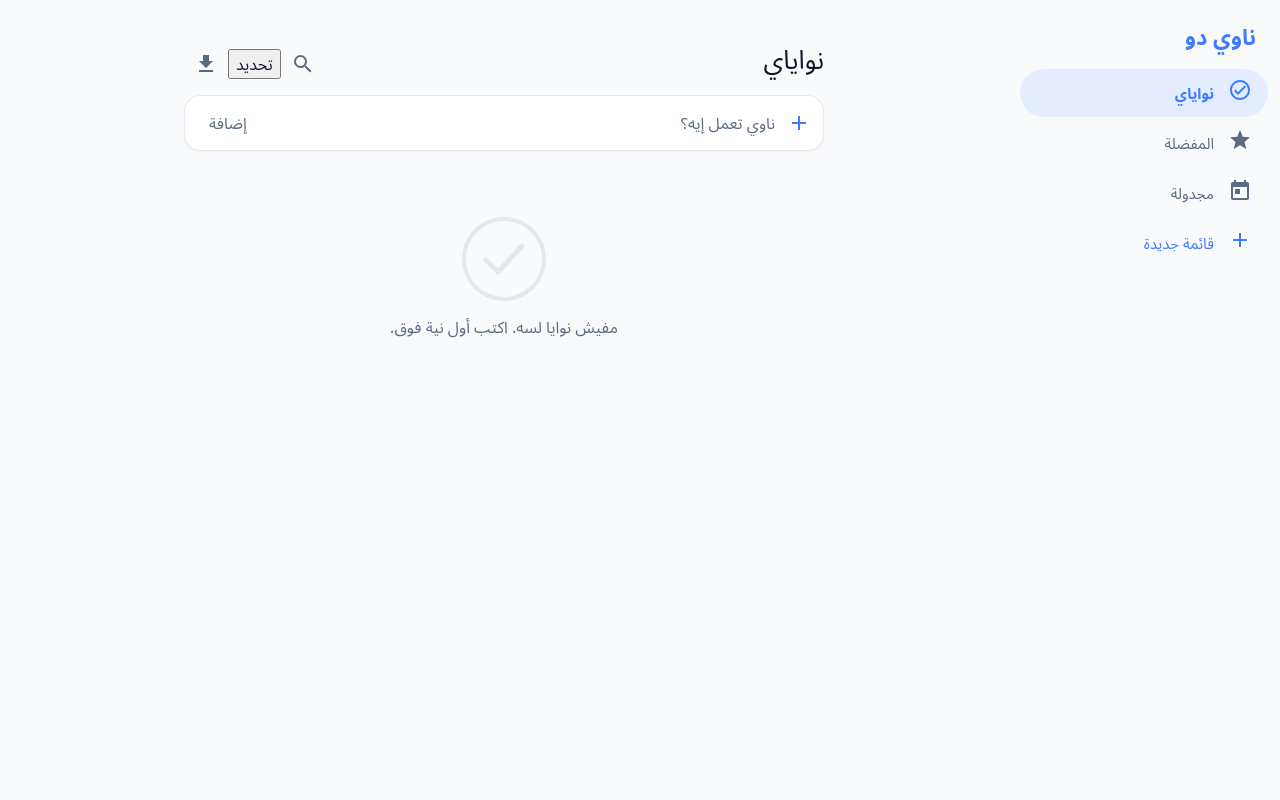
Test: lists › renames a list
The width and height of the screenshot is (1280, 800).
Check: the text "مفيش نوايا لسه. اكتب أول نية فوق." is shown, box [390,315,618,339]
Click the button "قائمة جديدة" at x=1144, y=243, box [1020,219,1268,267]
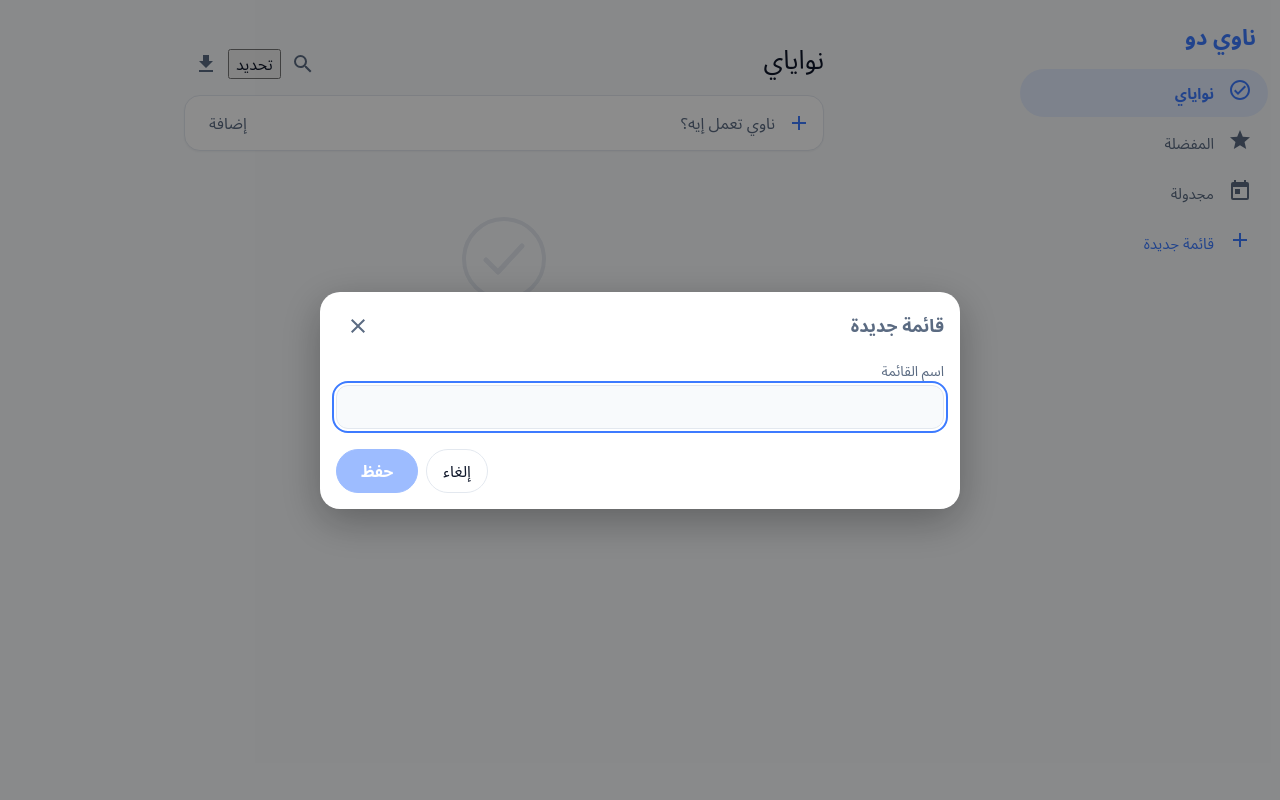
Type "قديم" into the field labelled "اسم القائمة" at x=640, y=406, box [336,384,944,428]
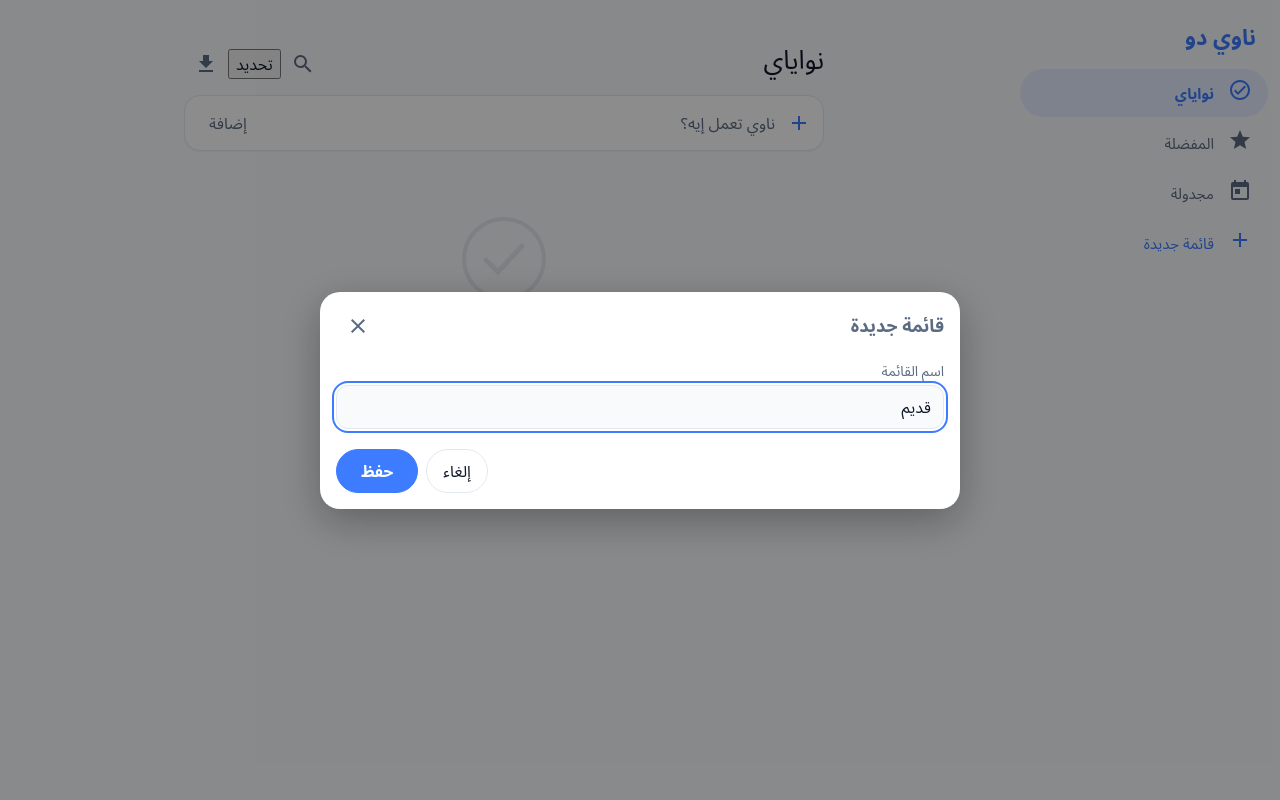
Click the button "حفظ" at x=377, y=470, box [336,448,418,492]
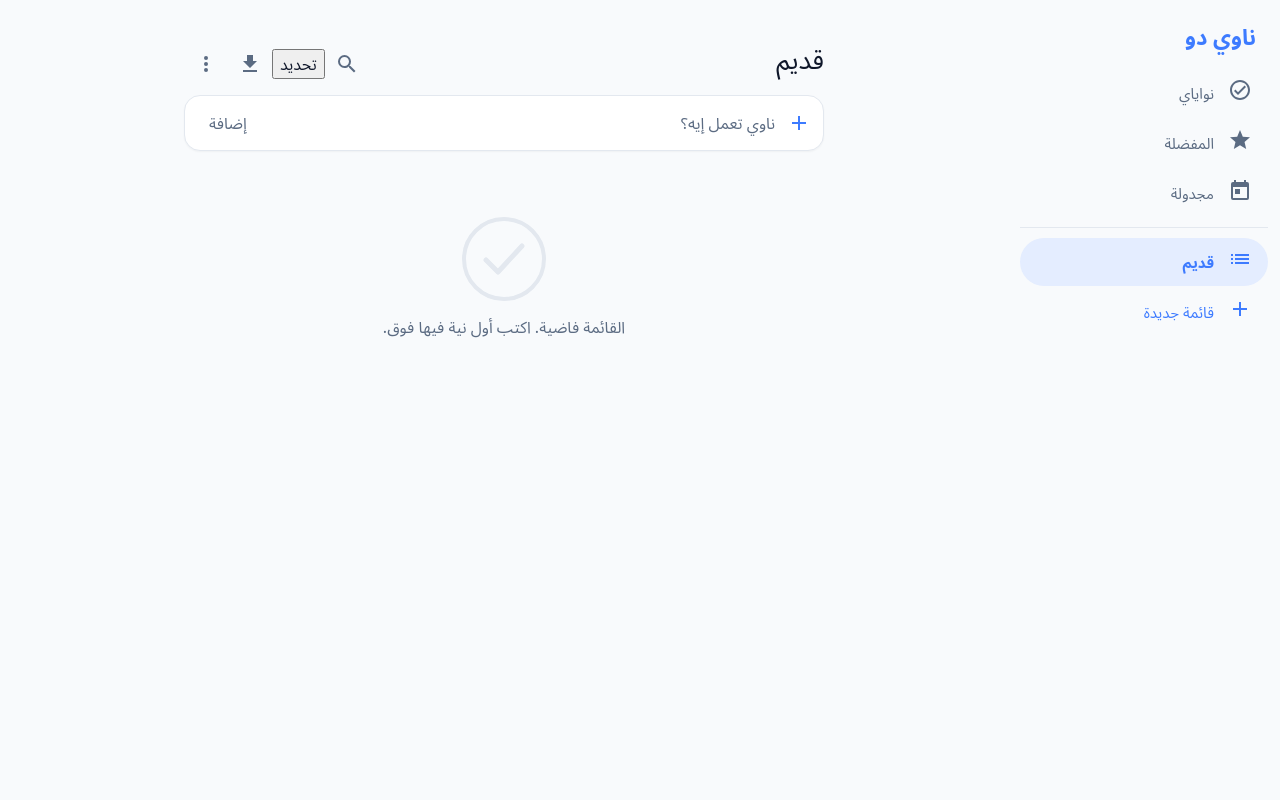
Check: the heading "قديم" is shown, box [776,40,824,79]
Click the button named "خيارات القائمة" at x=206, y=64, box [184,42,228,86]
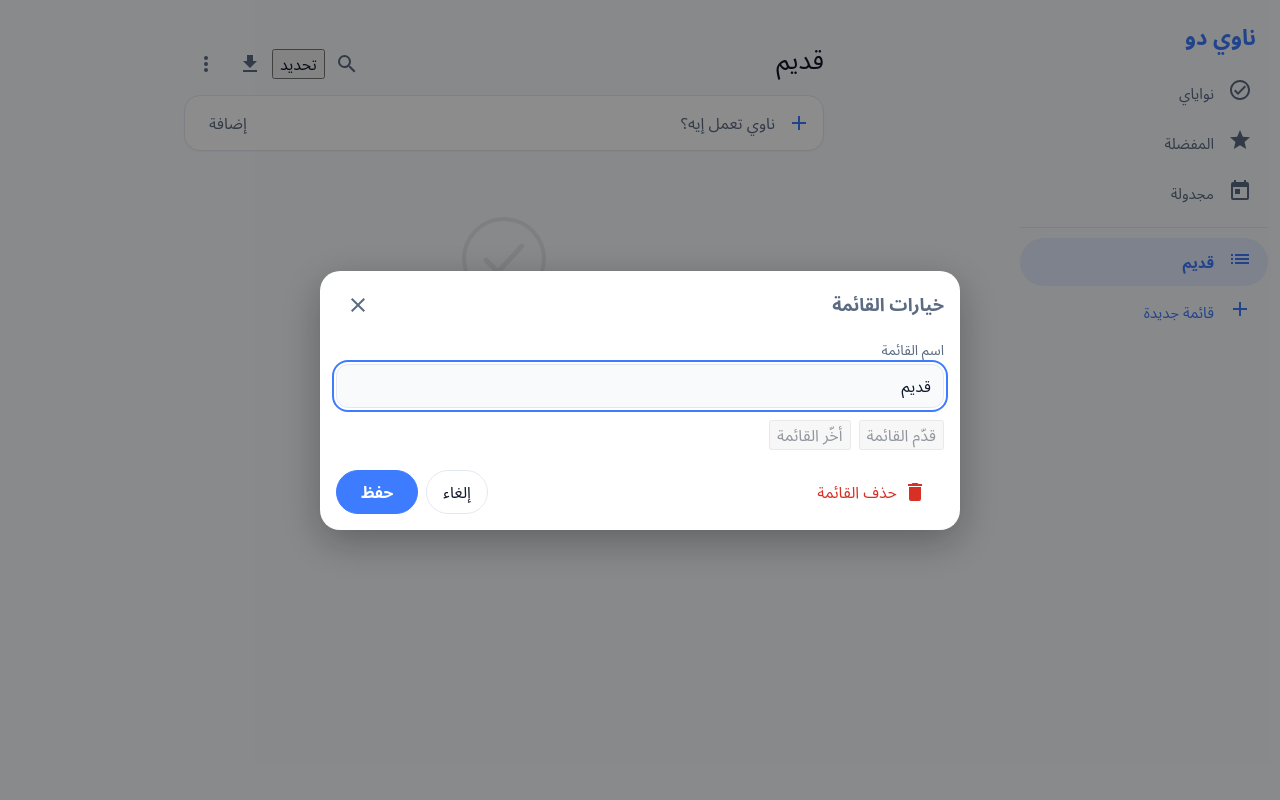
Replace the text in the field labelled "اسم القائمة" with "جديد" at x=640, y=386, box [336,364,944,408]
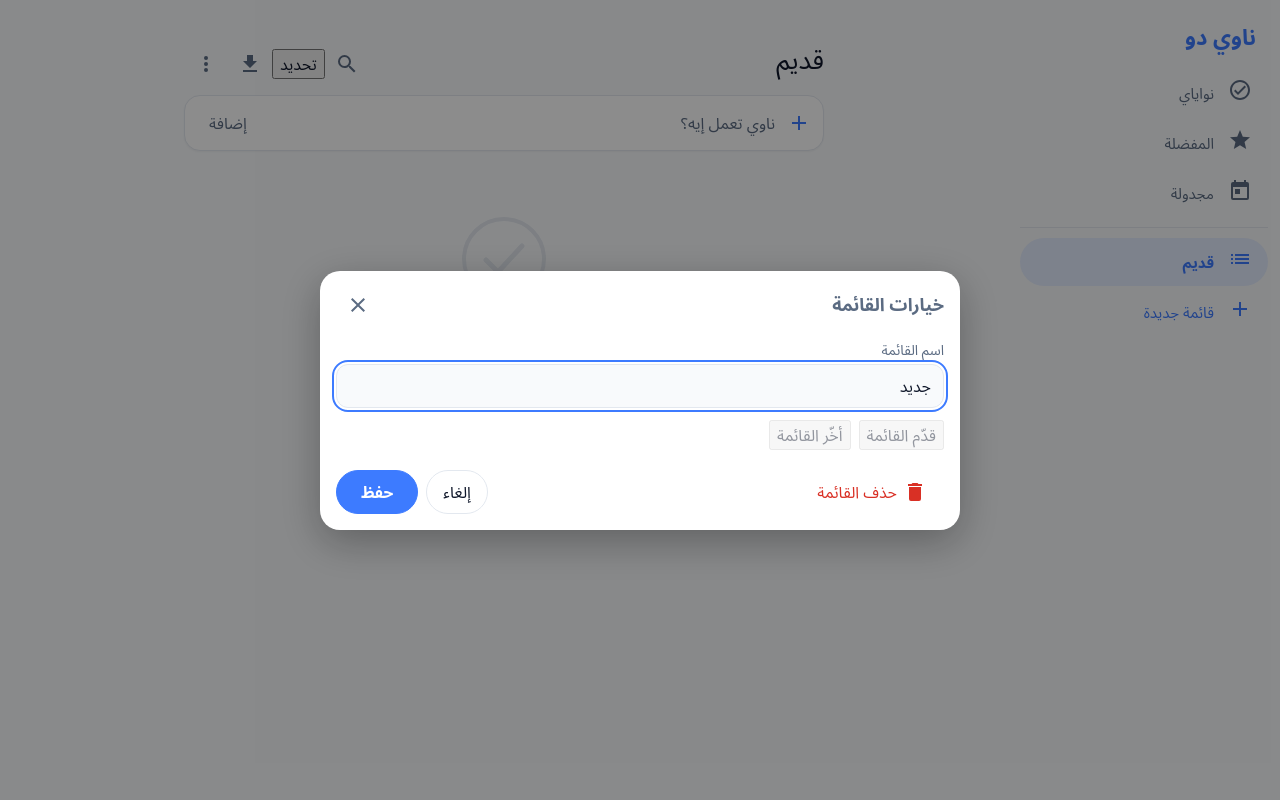
Click the button "حفظ" at x=377, y=492, box [336,470,418,514]
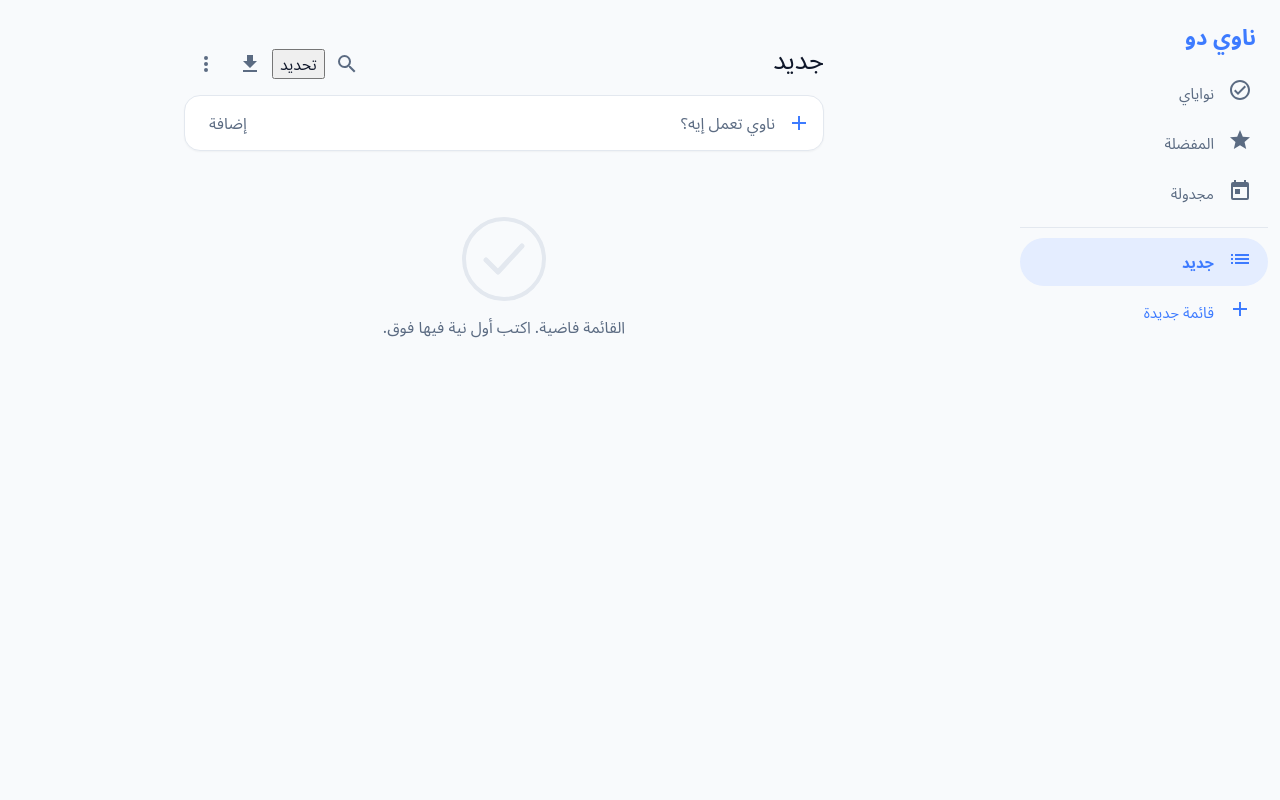
Check: the heading "جديد" is shown, box [773,40,824,79]
